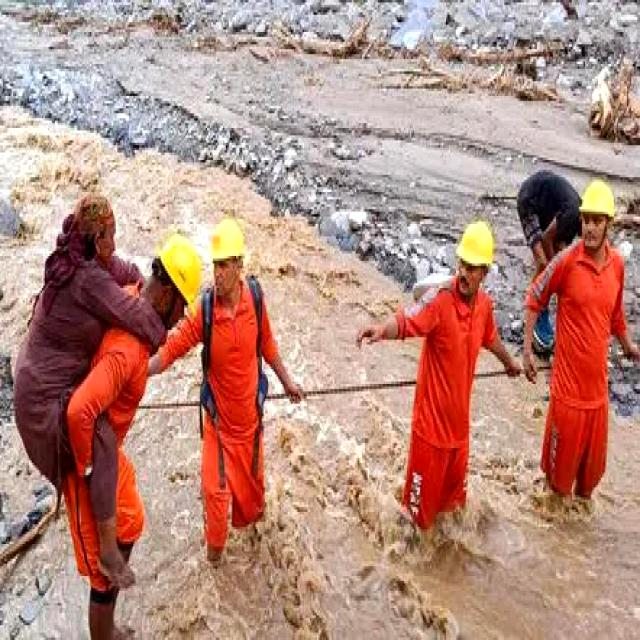civilian: (11, 192, 170, 600), (506, 156, 582, 297)
rescuer: (61, 213, 206, 640), (145, 222, 307, 586), (353, 206, 525, 532), (518, 178, 640, 521)
